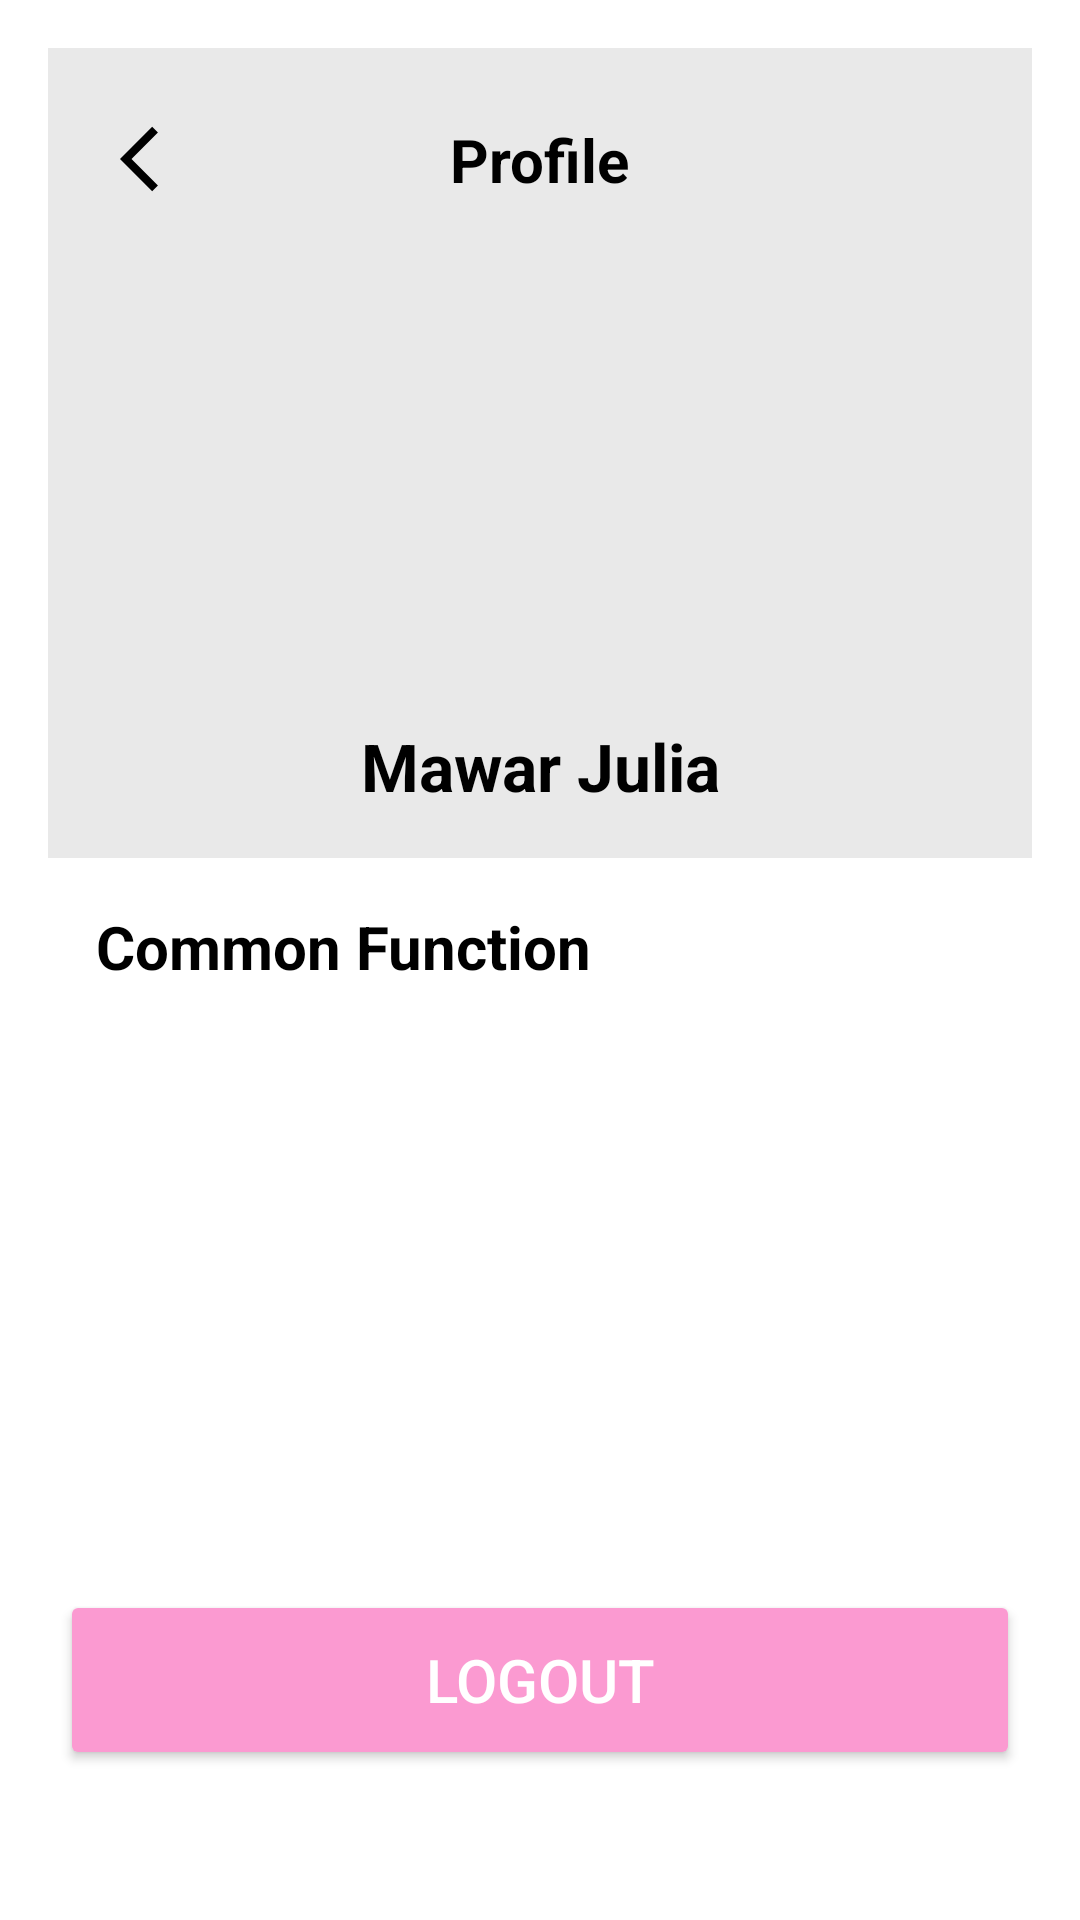

Where icons sit on this 1080*1920 app screen, as [x1, y1, x2, y2]:
arrow back: [120, 127, 158, 191]
